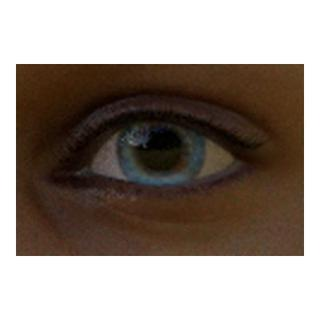pupil: (139, 127, 181, 170)
